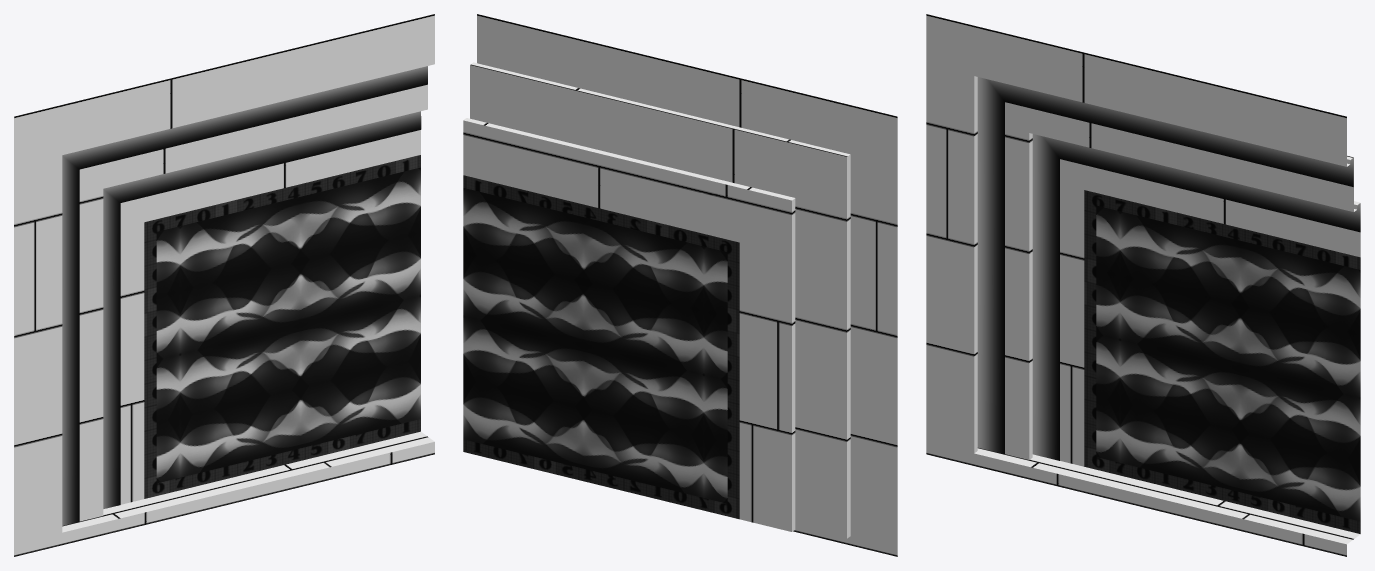
The model's file is WallNiche02_2_350x350cm.FBX.
3 renders of one model, left to right at view 1: azimuth 30°, elevation 25°; view 2: azimuth 150°, elevation 25°; view 3: azimuth 330°, elevation 25°, orthographic.
Visible parts, largest first — view 1: Wall, Backlight; view 2: Wall; view 3: Wall, Backlight.
Boxes of the visible parts, x1,y1,x2,y2 form: Wall: (14,14,434,556); Backlight: (62,66,427,525); Wall: (463,14,897,556); Wall: (926,14,1360,556); Backlight: (977,77,1360,460).
Size of the model in its own units: 350 by 350 by 20.
